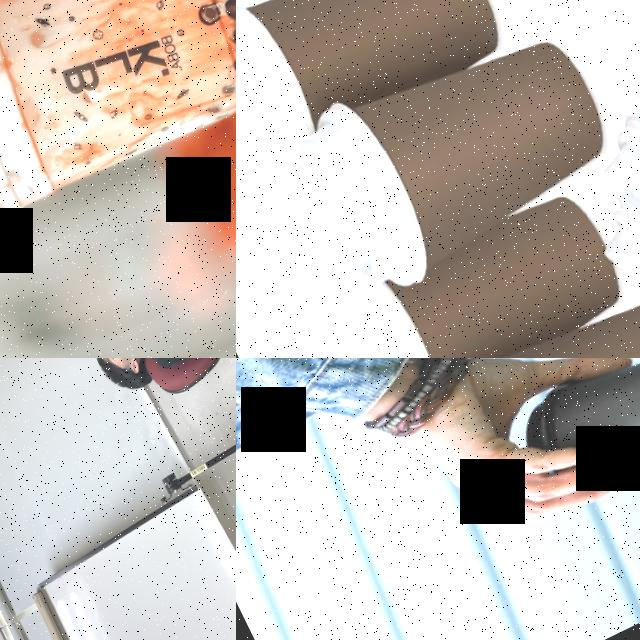cup: (275, 0, 637, 312), (324, 158, 640, 358), (0, 0, 236, 248), (236, 0, 526, 181), (422, 258, 640, 358), (507, 358, 640, 503)
